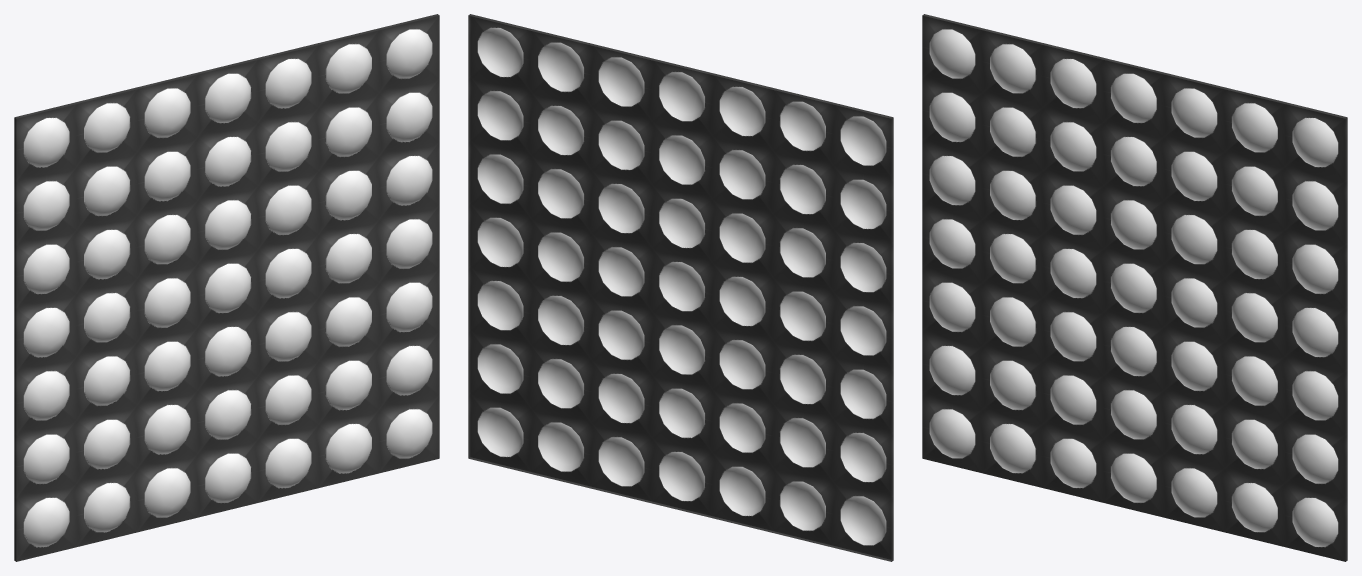
Rendered from PanelLight04.FBX.
3 views of the same model, side by side, from view 1: azimuth 30°, elevation 25°; view 2: azimuth 150°, elevation 25°; view 3: azimuth 330°, elevation 25° (orthographic).
Visible parts, largest first — view 1: PanelLight04; view 2: PanelLight04; view 3: PanelLight04.
Part boxes in pixels (left/top/right/bottom): PanelLight04: left=14, top=14, right=439, bottom=561; PanelLight04: left=468, top=14, right=893, bottom=561; PanelLight04: left=922, top=14, right=1347, bottom=561.
Size of the model in its own units: 3.5 by 3.5 by 0.1146.
